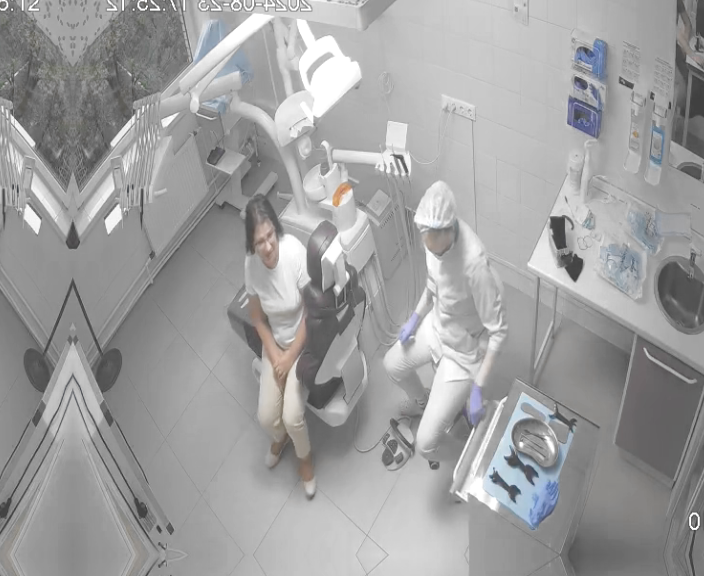Empty: (225, 189, 371, 497)
